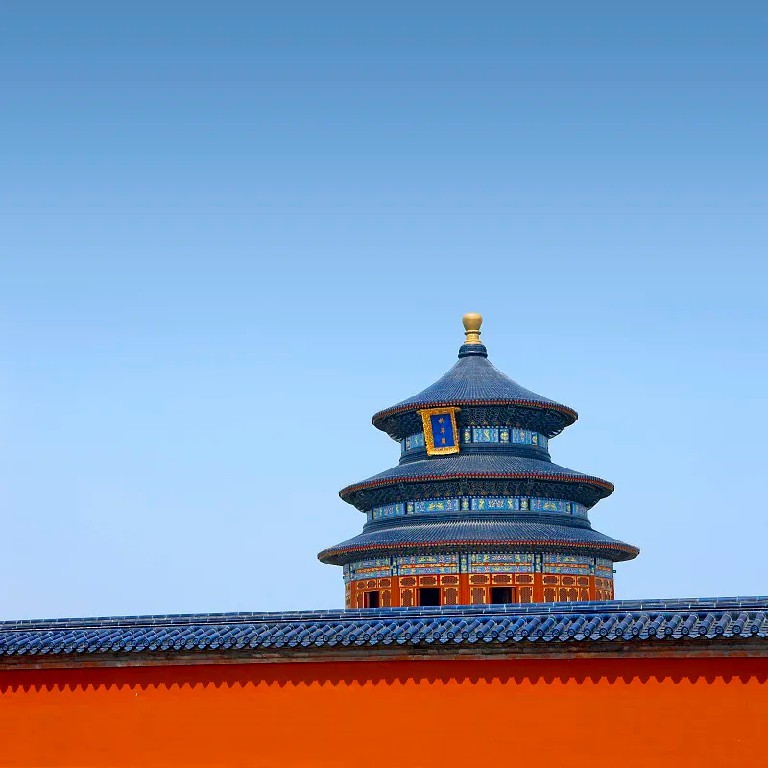Heaven: (317, 312, 642, 602)
